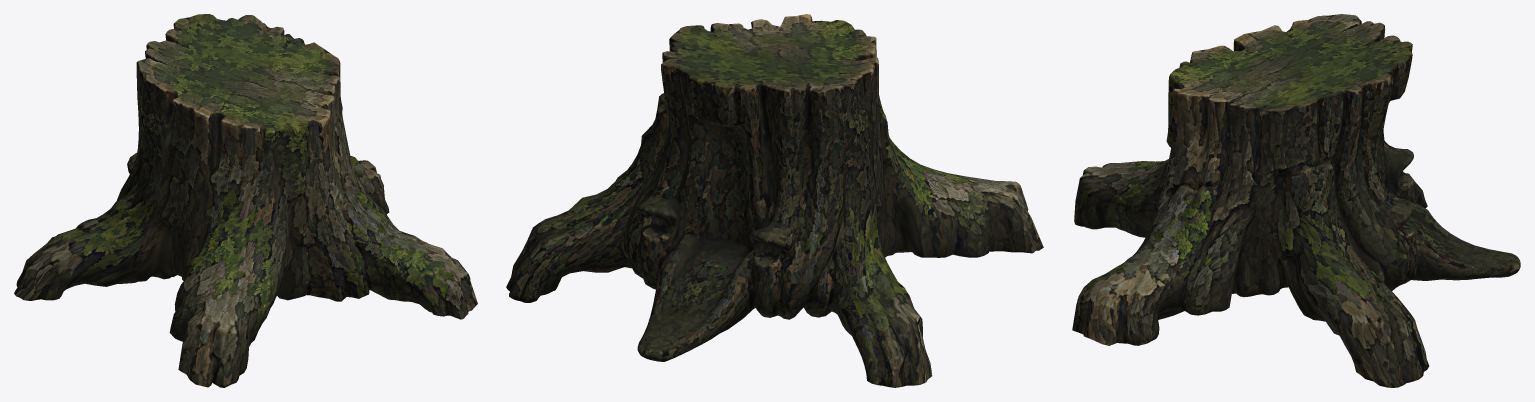
The model's file is clutter_mossy_stump.glb.
The picture shows the model from 3 angles, left to right: view 1: azimuth 30°, elevation 25°; view 2: azimuth 150°, elevation 25°; view 3: azimuth 270°, elevation 25°; orthographic projection. The views are drawn at different scales.
Visible parts, largest first — view 1: tripo_492a683a_39f0_4719_beb4_951db95e3d1f; view 2: tripo_492a683a_39f0_4719_beb4_951db95e3d1f; view 3: tripo_492a683a_39f0_4719_beb4_951db95e3d1f.
Boxes of the visible parts, bbox=[...] form: tripo_492a683a_39f0_4719_beb4_951db95e3d1f: bbox=[14, 14, 477, 387]; tripo_492a683a_39f0_4719_beb4_951db95e3d1f: bbox=[506, 14, 1043, 387]; tripo_492a683a_39f0_4719_beb4_951db95e3d1f: bbox=[1072, 14, 1520, 387].
Size of the model in its own units: 0.9995 by 0.6001 by 0.9966.
1 material, 1 textured.
